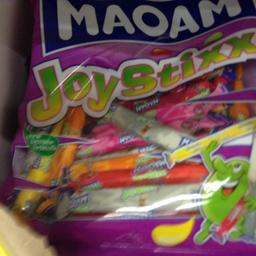candy: (26, 2, 255, 238)
